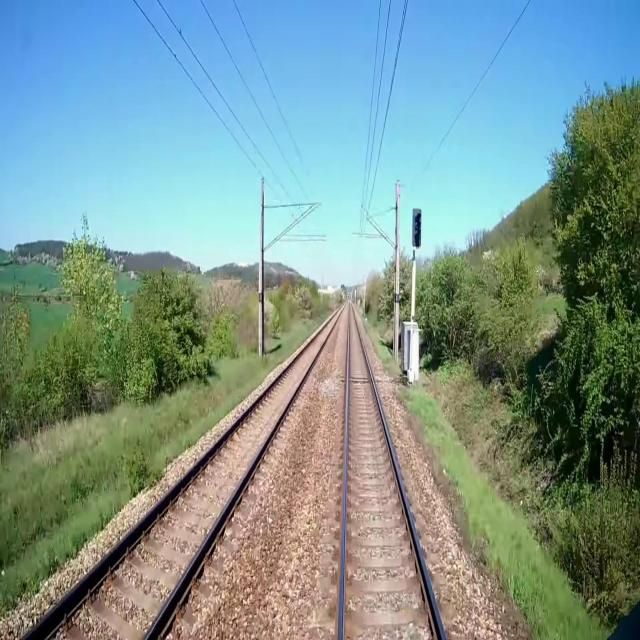rail-track: (28, 311, 340, 639), (344, 306, 442, 639)
